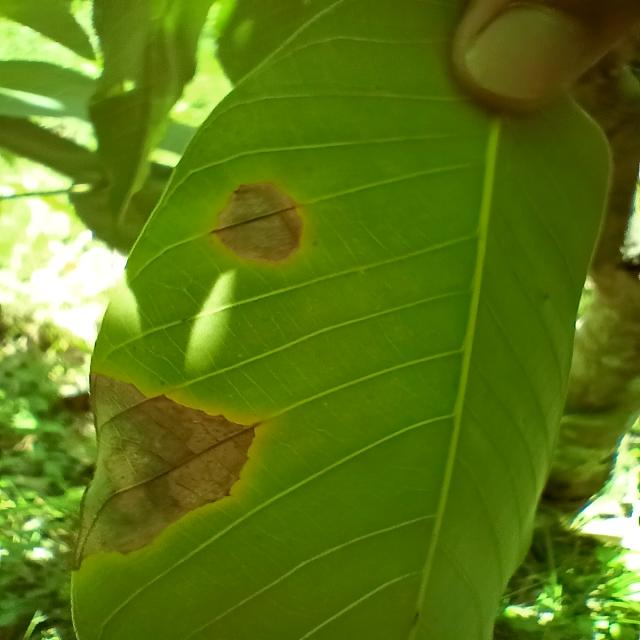Leaf-Blight: (72, 370, 260, 572), (208, 177, 304, 263)
